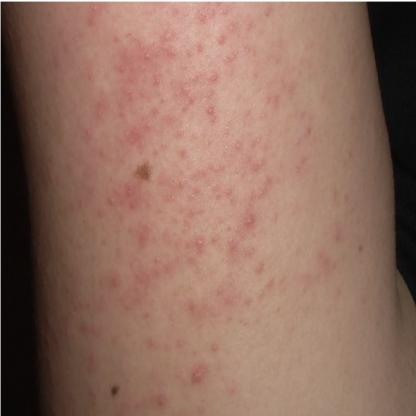Chicken Skin: (90, 0, 338, 359)
